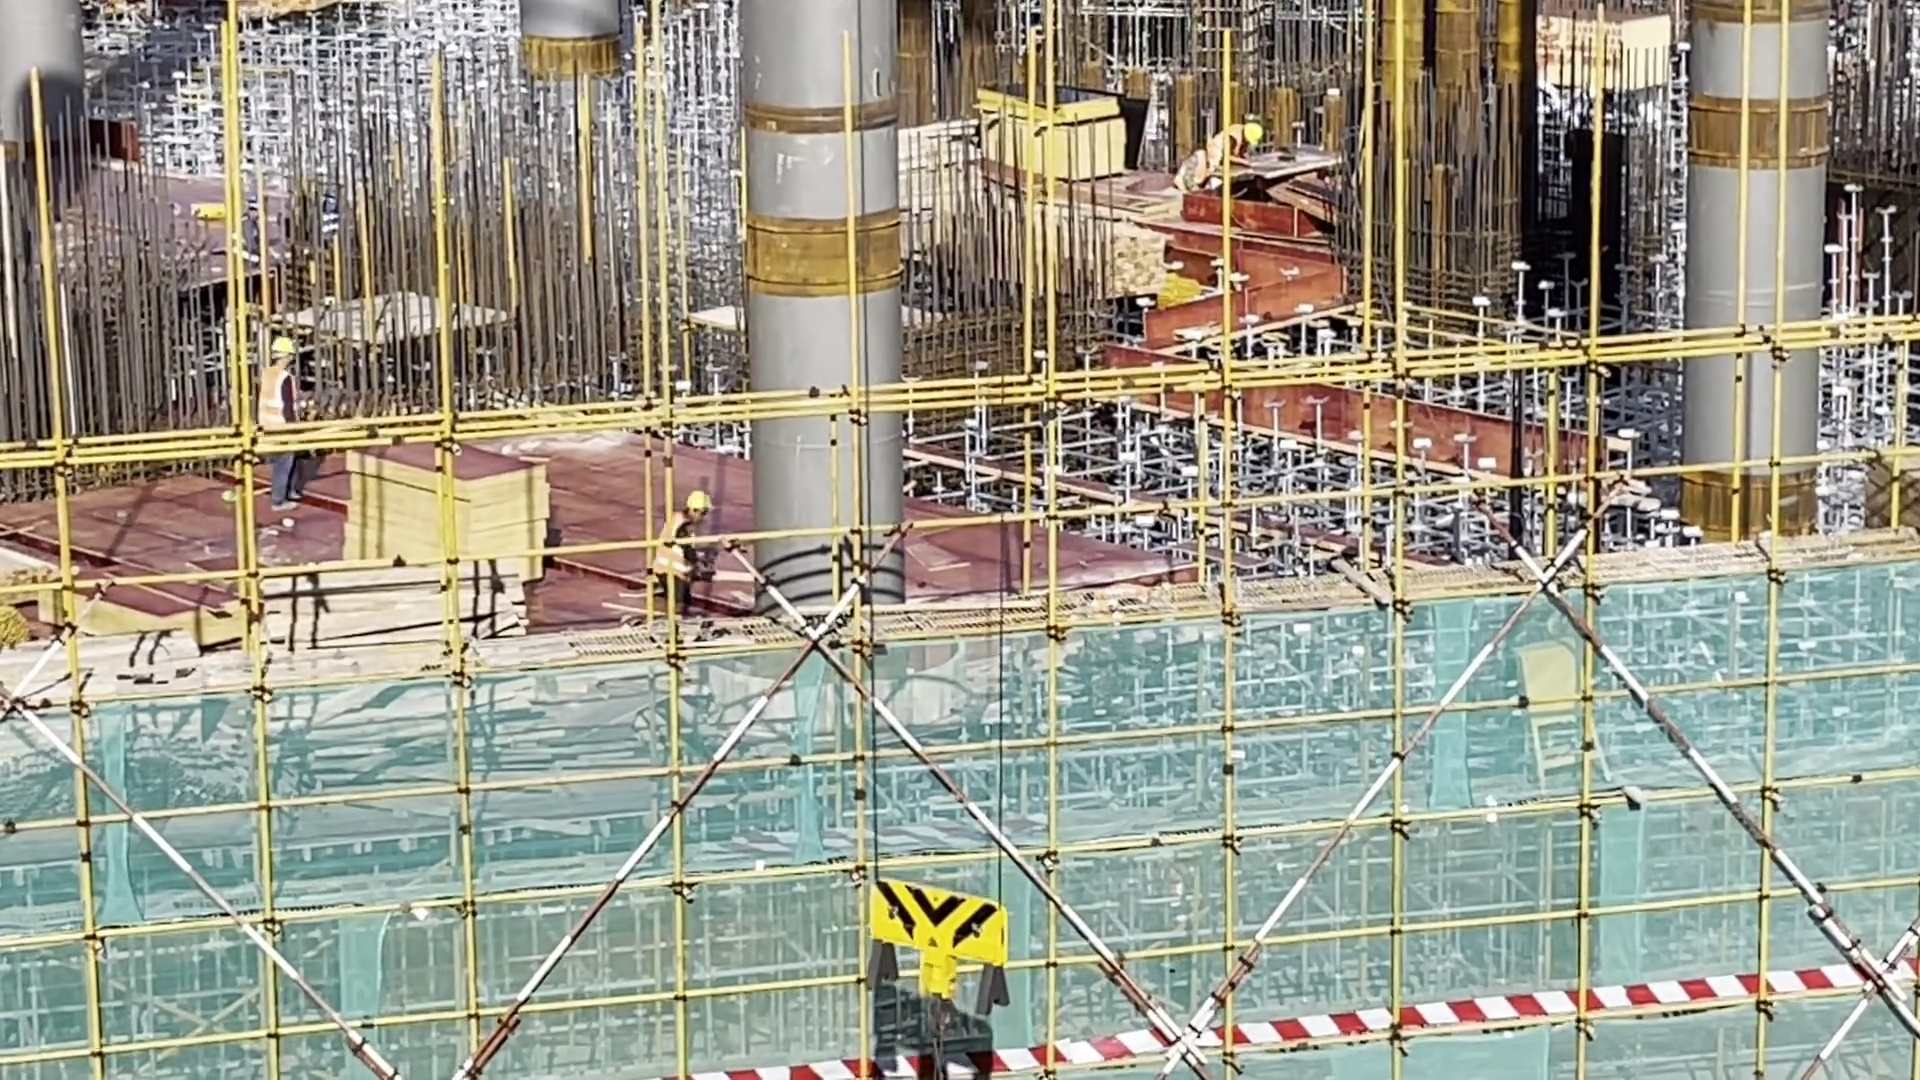board: (346, 437, 554, 577)
helmet: (1244, 122, 1262, 146), (688, 490, 710, 509)
hook: (870, 872, 1006, 1029)
person: (640, 483, 728, 637), (252, 337, 308, 500), (1193, 120, 1265, 158)
vest: (652, 509, 694, 585), (258, 366, 294, 433)
